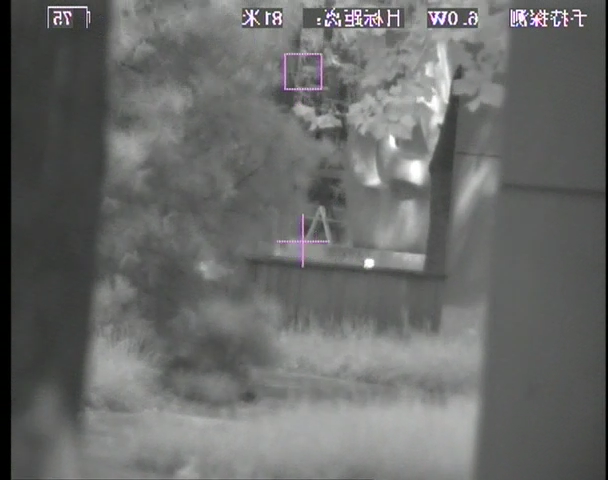my: (364, 258, 375, 269)
